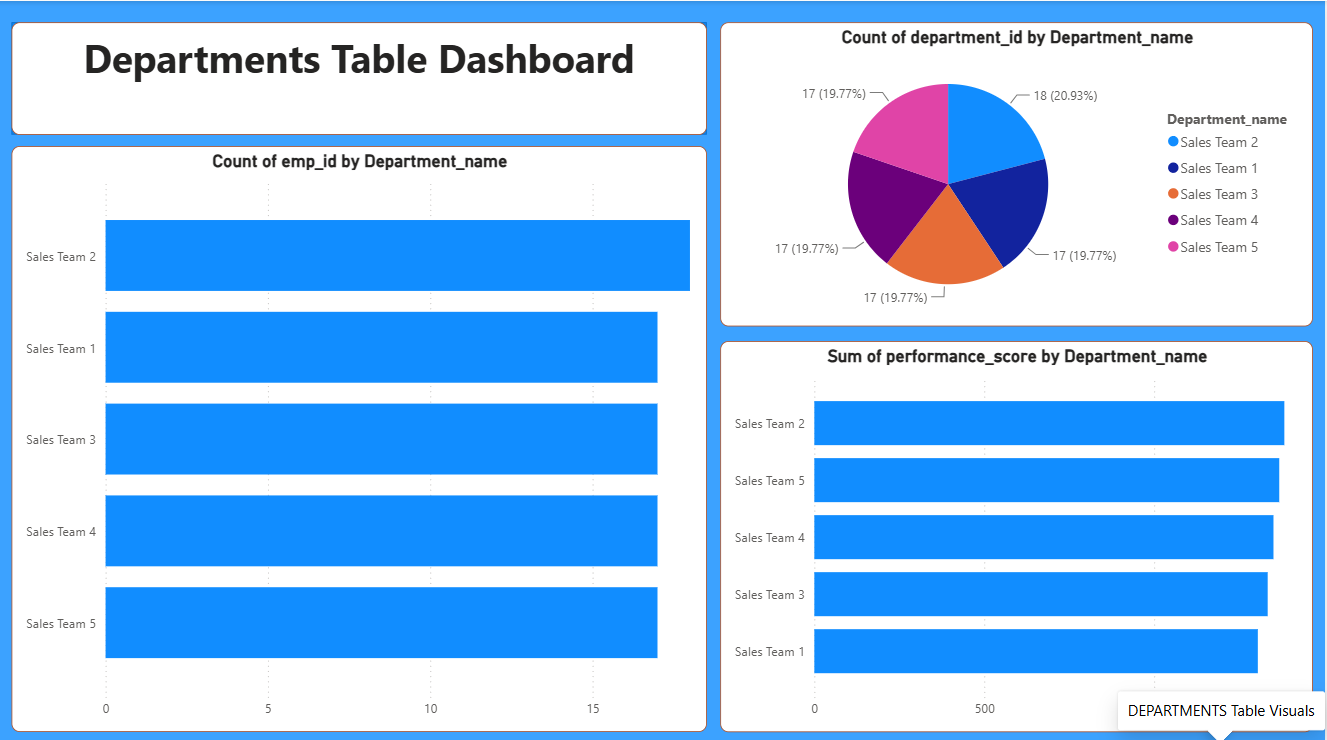

Layout of this report page (visuals, bound fields, positions):
{"tool":"powerbi","page":{"name":"DEPARTMENTS Table Visuals","canvas":[1280,720],"ordinal":5},"visuals":[{"type":"pieChart","fields":{"Category":["departments.department_name"],"Y":["CountNonNull(employees.department_id)"]},"box":[695.7,20.6,572.2,293.7],"z":0},{"type":"clusteredBarChart","fields":{"Category":["departments.department_name"],"Y":["CountNonNull(employees.emp_id)"]},"box":[12.3,140,671,565.4],"z":1000},{"type":"clusteredBarChart","fields":{"Category":["departments.department_name"],"Y":["Sum(employees.performance_score)"]},"box":[695.7,328,572.2,377.4],"z":2000},{"type":"shape","box":[12.3,20.6,671,108.4],"z":3000},{"type":"textbox","box":[12.3,20.6,671,108.4],"z":4000}]}

Visuals, with their boxes in screenshot pixels (x1, y1, x2, y2), scaled from the page's 1280x720 canvas onto the 1327x740 screenshot:
pieChart - departments.department_name x CountNonNull(employees.department_id): <region>721, 21, 1314, 323</region>
clusteredBarChart - departments.department_name x CountNonNull(employees.emp_id): <region>13, 144, 708, 725</region>
clusteredBarChart - departments.department_name x Sum(employees.performance_score): <region>721, 337, 1314, 725</region>
shape: <region>13, 21, 708, 133</region>
textbox: <region>13, 21, 708, 133</region>
